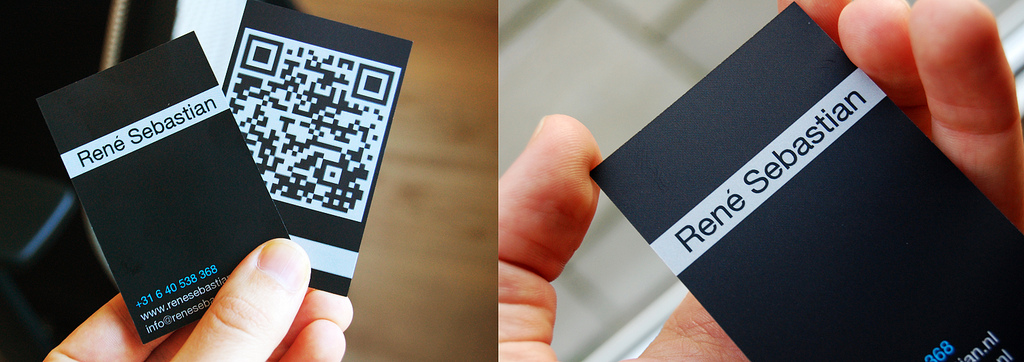QR-CODE: (228, 33, 395, 216)
